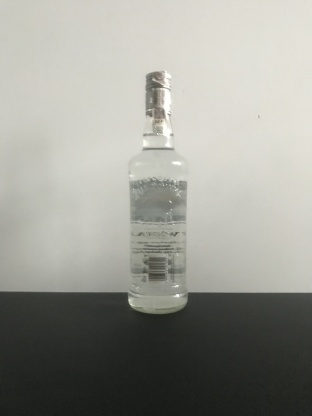nakretka: (143, 68, 173, 118)
